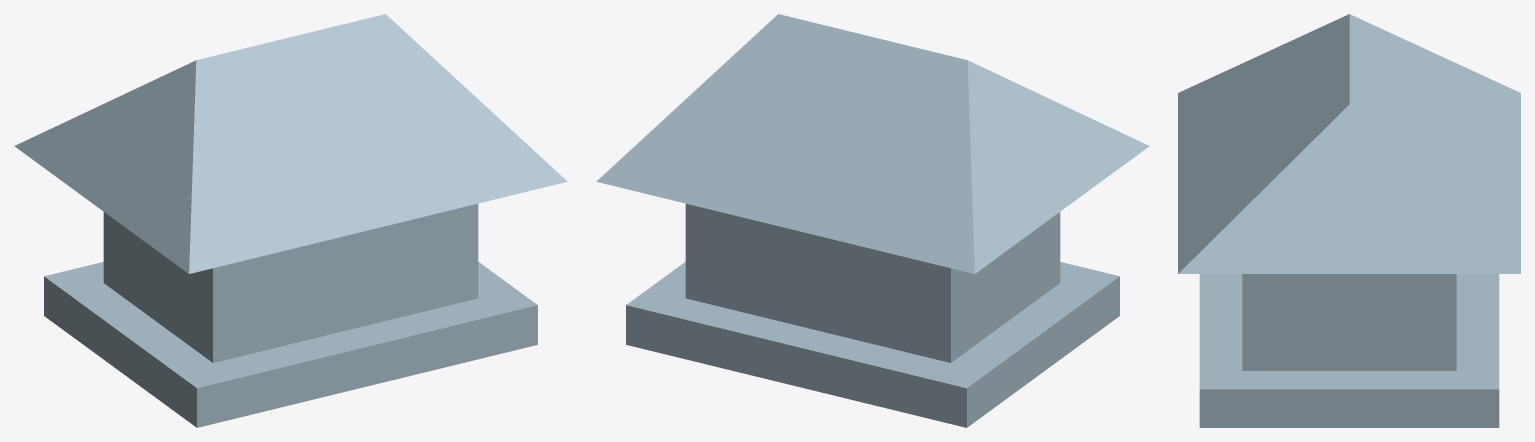
File: bo_shrine_honden.fbx
The picture shows the model from 3 angles, left to right: view 1: azimuth 30°, elevation 25°; view 2: azimuth 150°, elevation 25°; view 3: azimuth 270°, elevation 25°; orthographic projection. The views are drawn at different scales.
Parts seen in each view (by area): view 1: bo_shrine_honden; view 2: bo_shrine_honden; view 3: bo_shrine_honden.
Boxes of the visible parts, box(x1,y1,x2,y2) form: bo_shrine_honden: box(14, 14, 567, 427); bo_shrine_honden: box(596, 14, 1149, 427); bo_shrine_honden: box(1178, 14, 1520, 427).
Size of the model in its own units: 10 by 7.4 by 8.
1 material, 1 textured.
